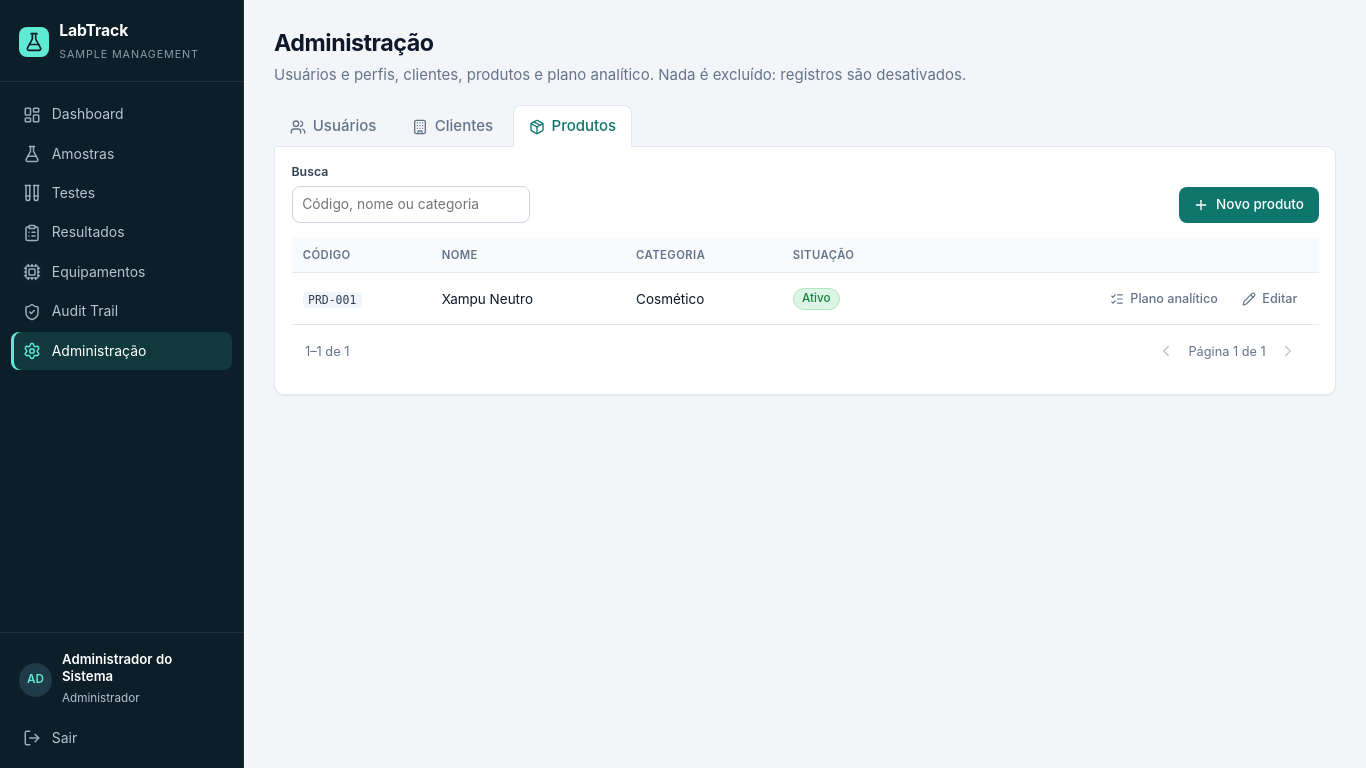
Test: Administração › edita o plano analítico com limites próprios do produto
This screenshot has width=1366, height=768.
Click the button "Plano analítico" at (1164, 299), box x1=1100 y1=284 x2=1228 y2=314
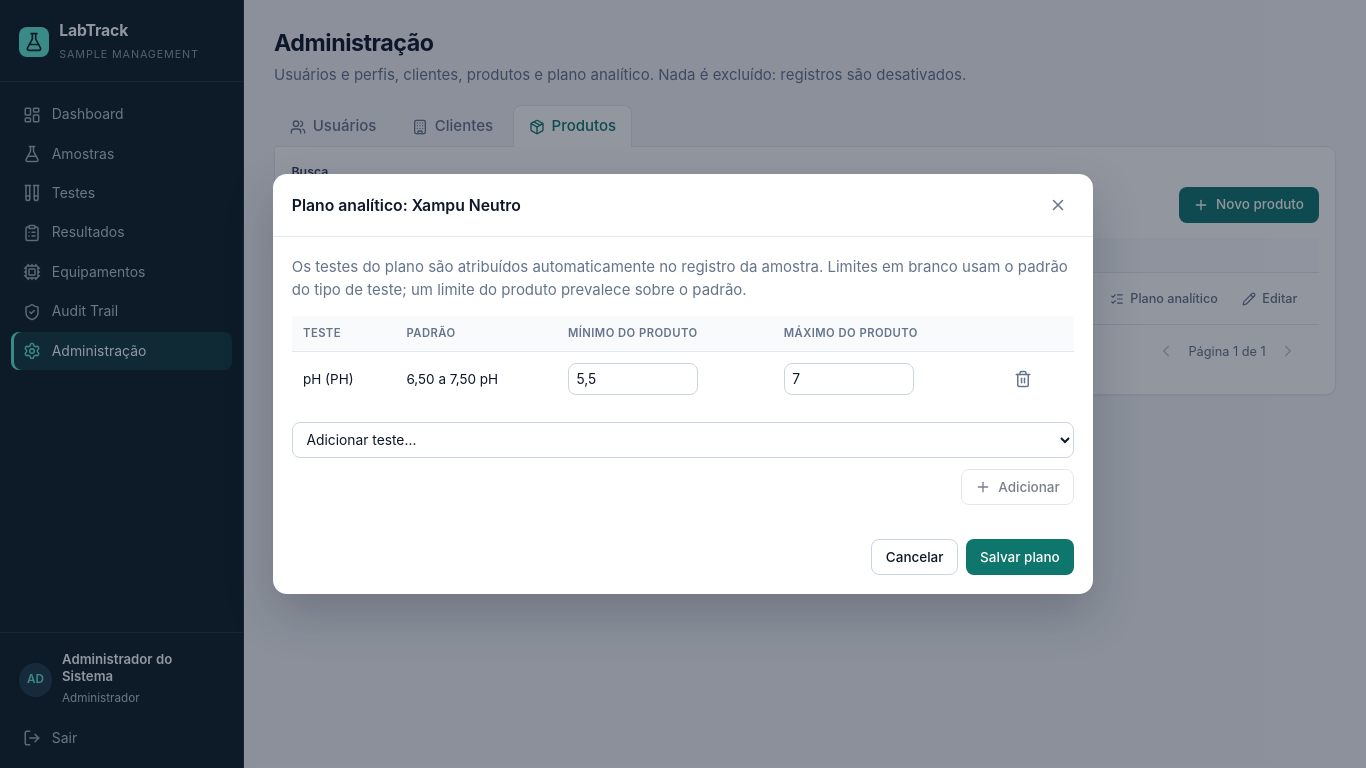
Result: the field named "Mínimo para pH" holds "5,5" at x1=568 y1=363 x2=698 y2=395
Select "Densidade (DENSITY)" in the dropdown named "Teste a adicionar" at (683, 440), box x1=292 y1=422 x2=1074 y2=458
Click the button "Adicionar" at (1018, 487), box x1=961 y1=469 x2=1074 y2=505
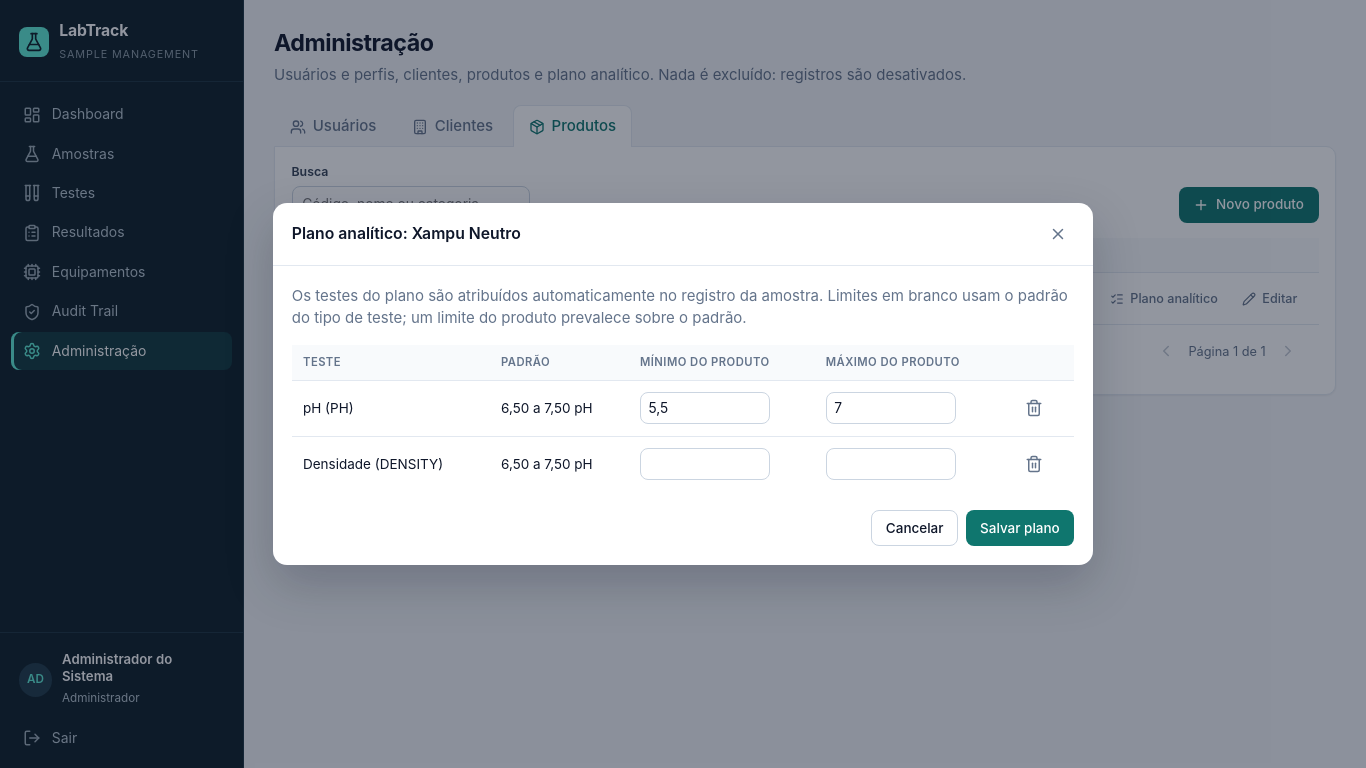
Type "1,05" into the field named "Máximo para Densidade" at (891, 464), box x1=826 y1=448 x2=956 y2=480
Replace the text in the field named "Mínimo para pH" with "x" at (705, 408), box x1=640 y1=392 x2=770 y2=424
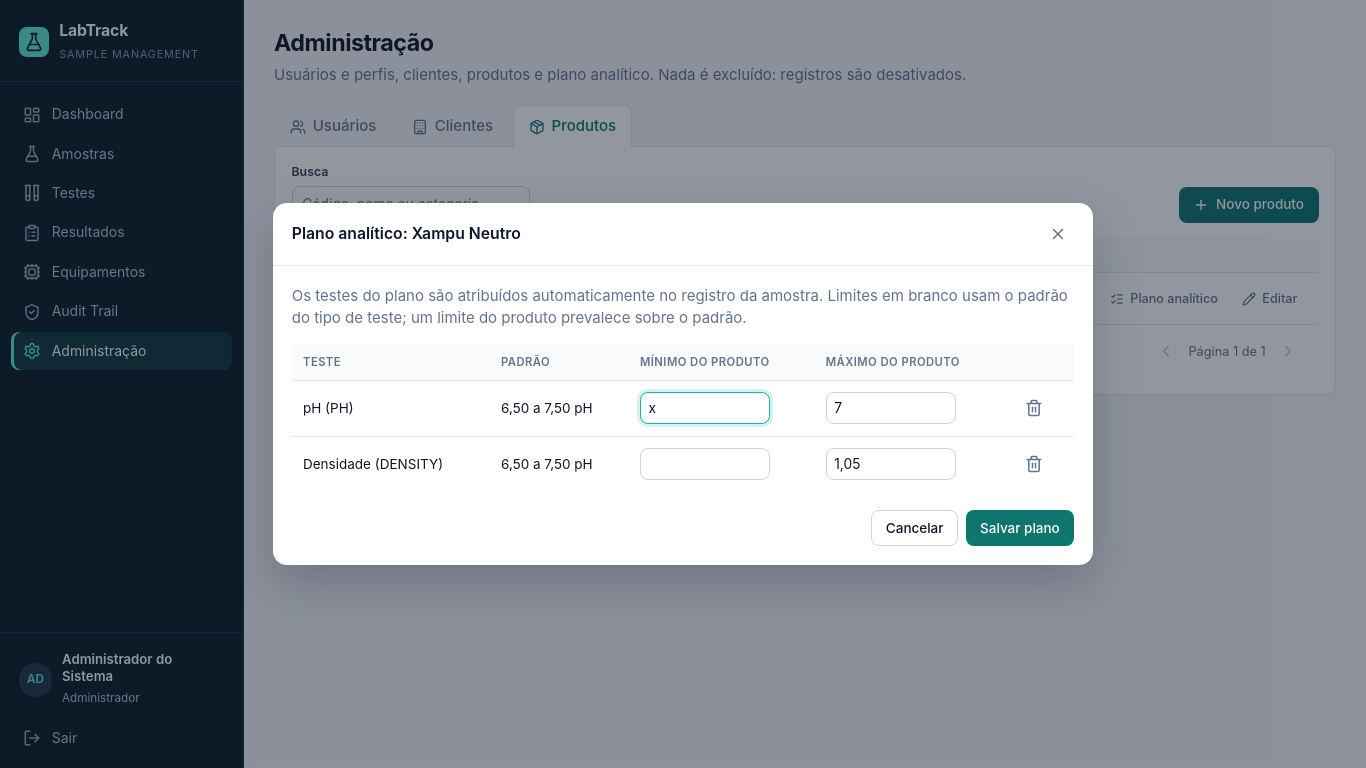
Click the button "Salvar plano" at (1020, 528), box x1=966 y1=510 x2=1074 y2=546
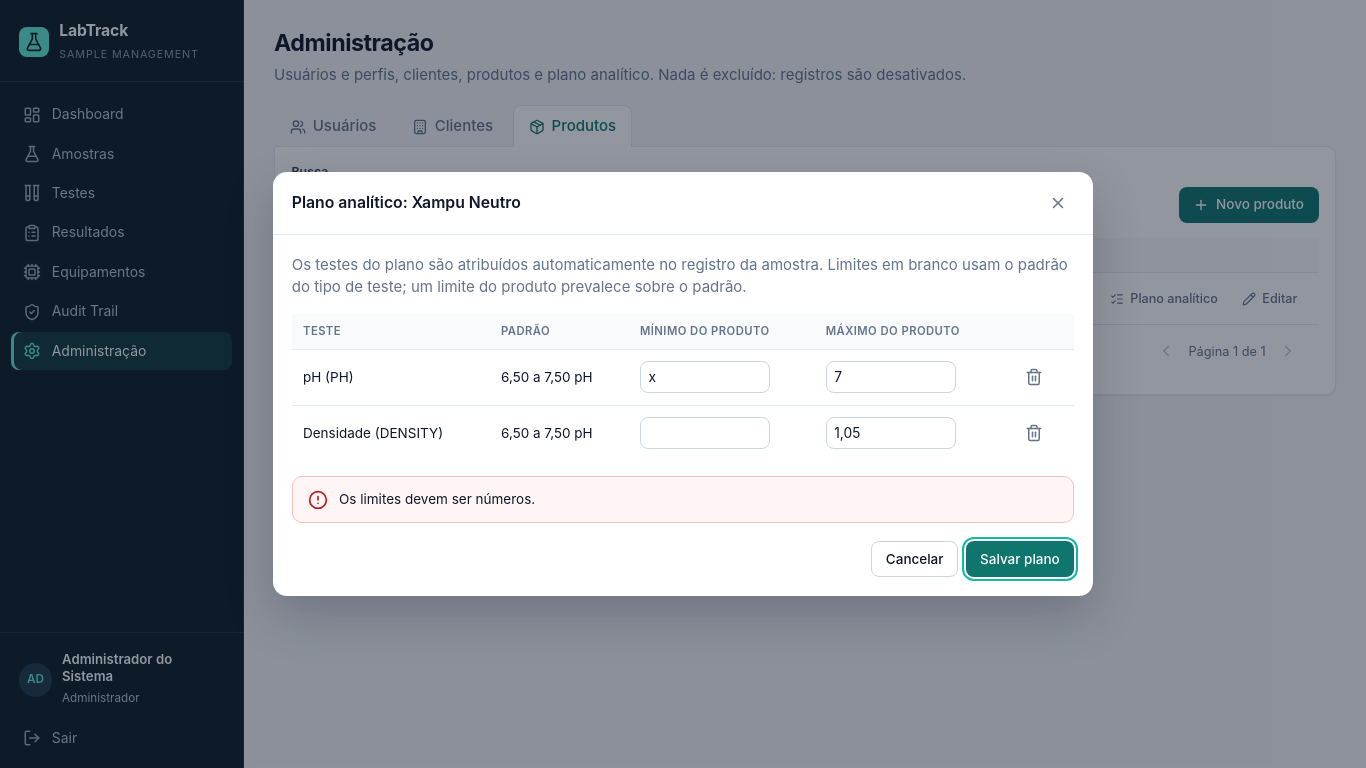
Result: the text "Os limites devem ser números." is shown at x1=339 y1=489 x2=535 y2=509
Clear the field named "Mínimo para pH" at (705, 377), box x1=640 y1=361 x2=770 y2=393
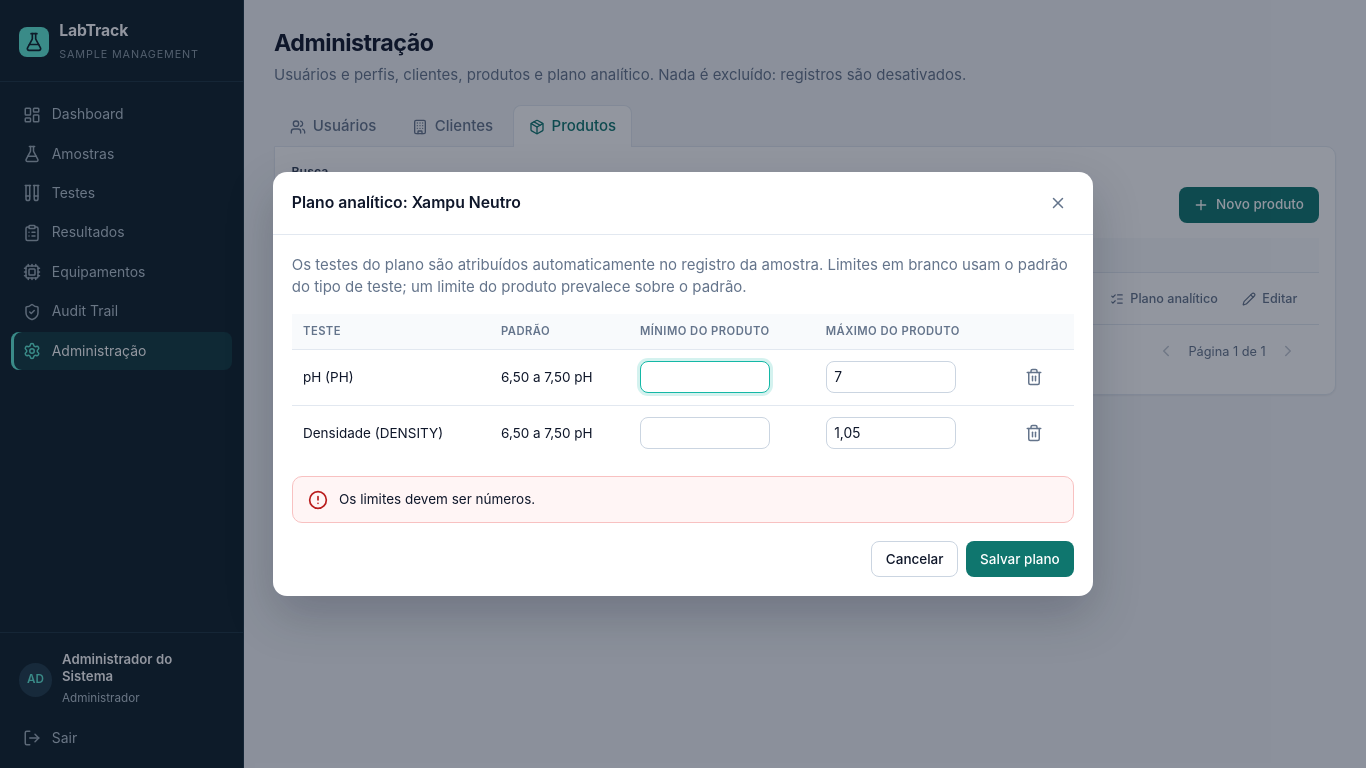
Click the button "Salvar plano" at (1020, 559), box x1=966 y1=541 x2=1074 y2=577
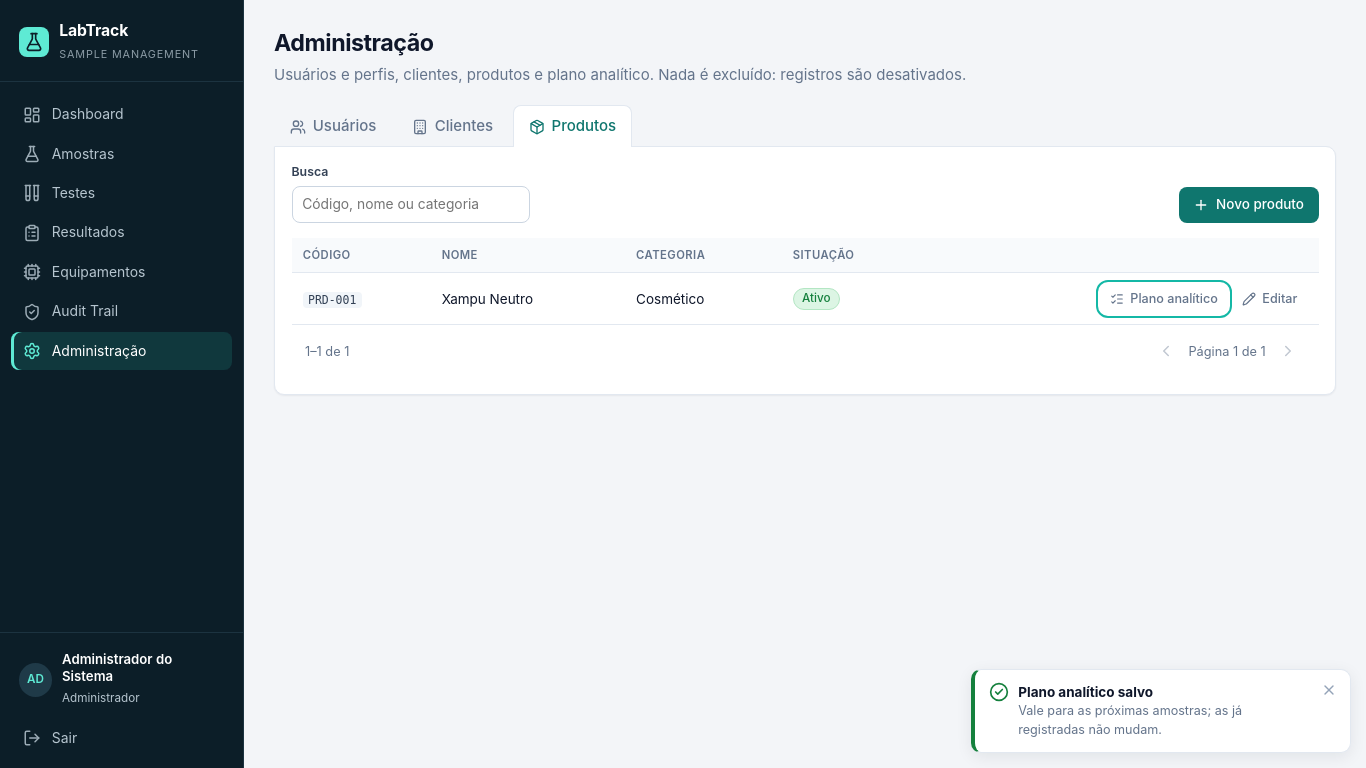
Result: the text "Plano analítico salvo" is shown at x1=1018 y1=684 x2=1153 y2=700
